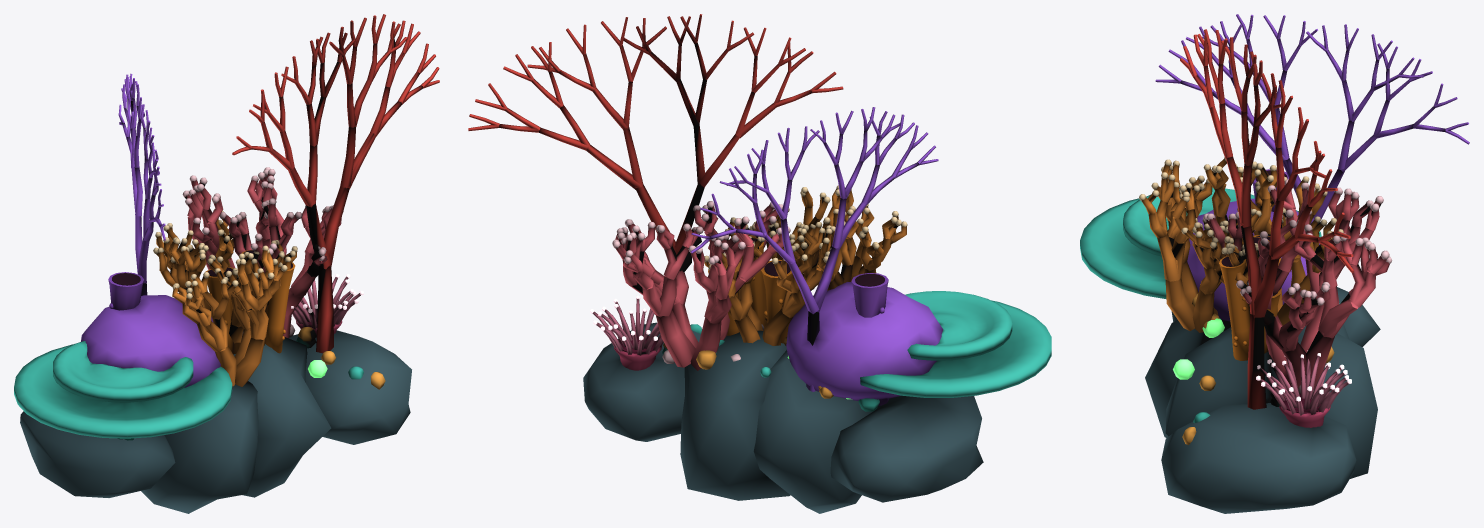
File: reef_small.glb
3 renders of one model, left to right at view 1: azimuth 30°, elevation 25°; view 2: azimuth 150°, elevation 25°; view 3: azimuth 270°, elevation 25°, orthographic. The views are drawn at different scales.
Parts seen in each view (by area): view 1: reef_small_mesh; view 2: reef_small_mesh; view 3: reef_small_mesh.
Part boxes in pixels (x1,y1,x2,y2): reef_small_mesh: [14, 14, 439, 513]; reef_small_mesh: [468, 14, 1051, 513]; reef_small_mesh: [1080, 14, 1469, 513].
Bounding box in the file's own units: 4.11 × 3.67 × 2.6.
